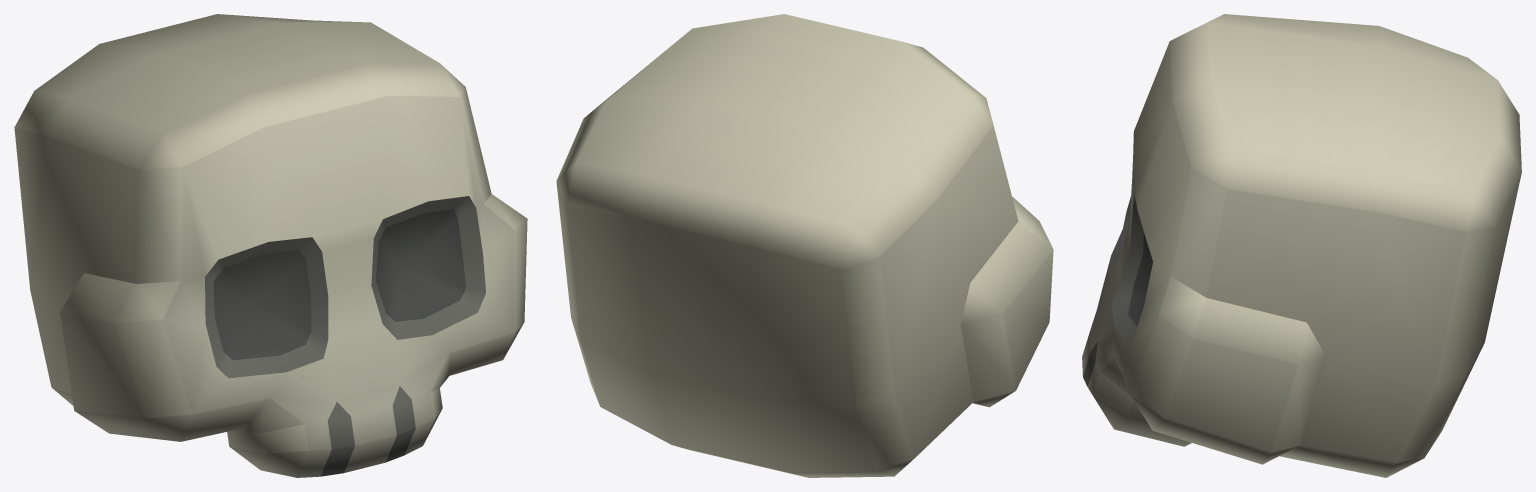
The model's file is deco_skull_1.fbx.
3 renders of one model, left to right at view 1: azimuth 30°, elevation 25°; view 2: azimuth 150°, elevation 25°; view 3: azimuth 270°, elevation 25°, orthographic. The views are drawn at different scales.
Parts seen in each view (by area): view 1: deco_skull_1; view 2: deco_skull_1; view 3: deco_skull_1.
Part boxes in pixels (box(x1,y1,x2,y2)): deco_skull_1: box(14, 14, 527, 477); deco_skull_1: box(556, 14, 1053, 477); deco_skull_1: box(1082, 14, 1521, 477).
Bounding box in the file's own units: 49.11 × 42.15 × 45.34.
